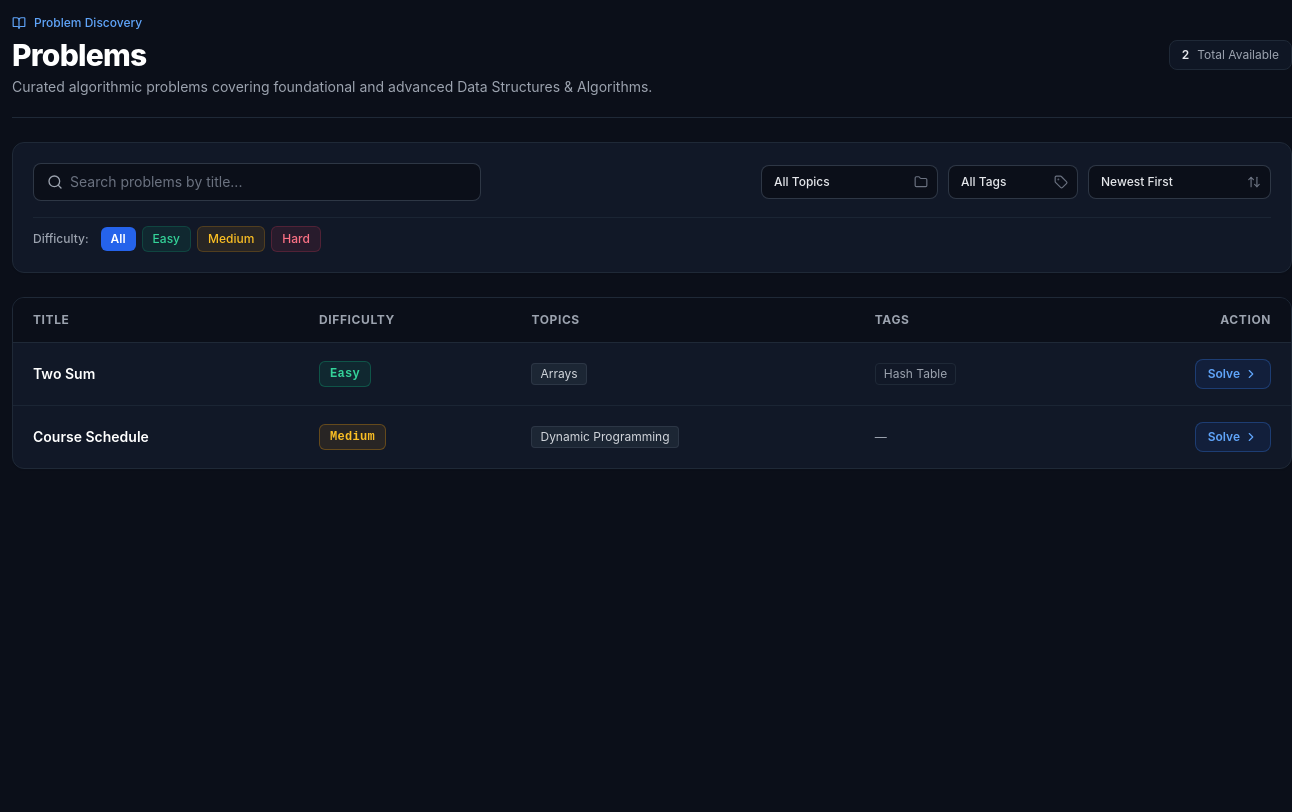
Public Problem Catalogue and Detail Frontend (Stage D) › Integration & Navigation › allows anonymous users to navigate from catalogue to problem detail
The width and height of the screenshot is (1292, 812).
Expected: the text "Two Sum" is shown, 33,364 -> 95,384
Click the link "Solve" in the row of "Two Sum" at (1233, 374), box 1195,359 -> 1271,389
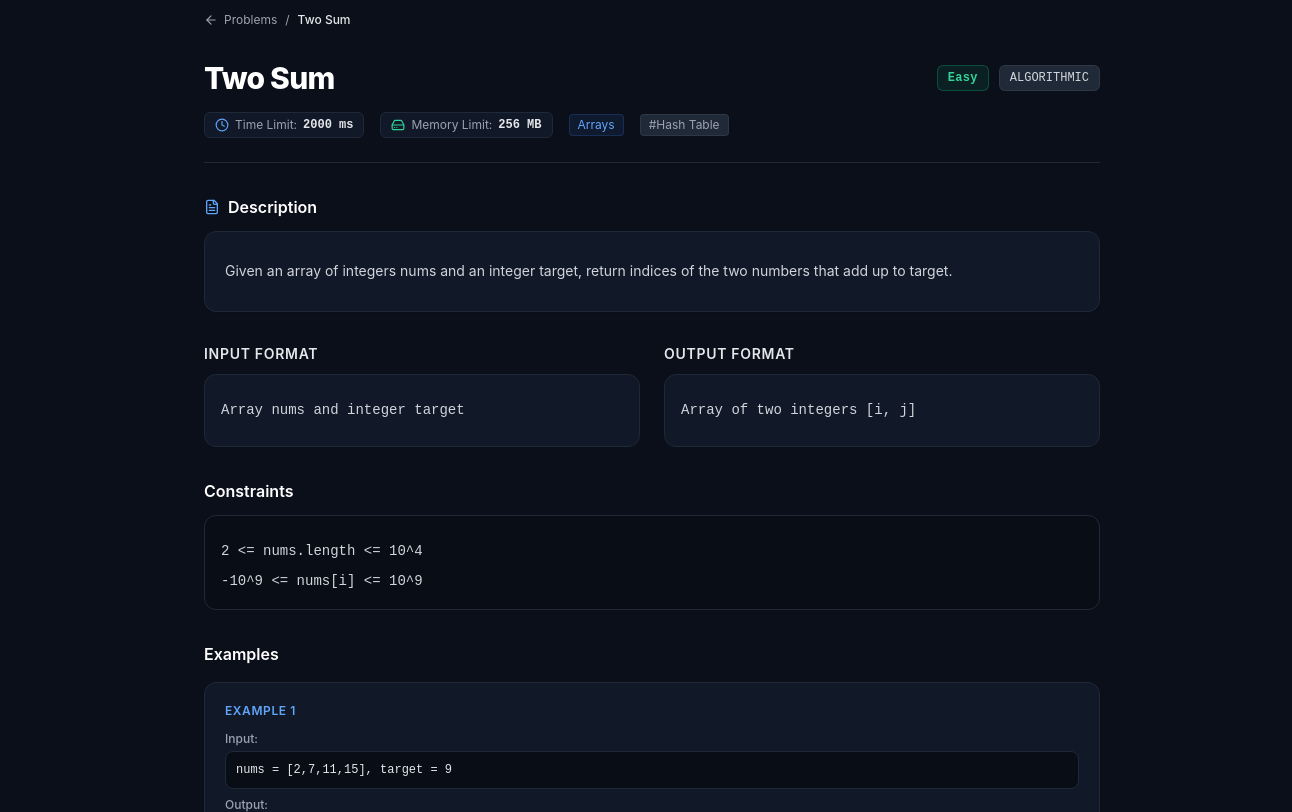
Expected: the heading "Two Sum" is shown, 204,60 -> 334,96
